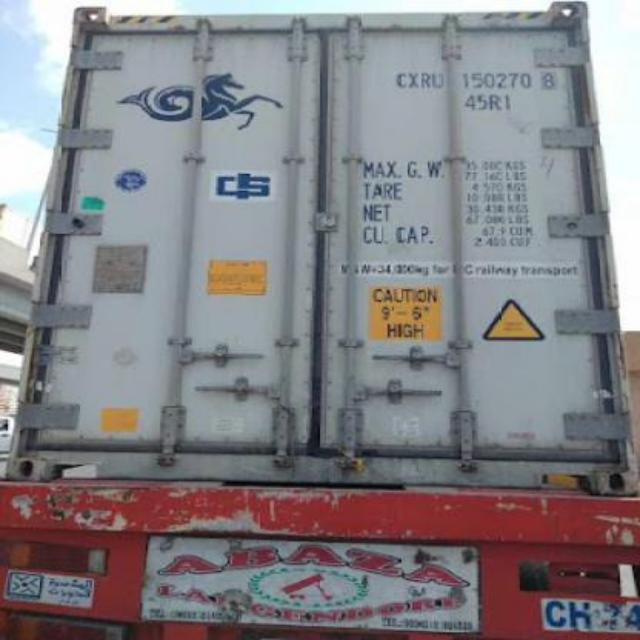0: (482, 72, 496, 90), (520, 70, 530, 90)
1: (462, 70, 472, 88)
2: (496, 72, 509, 88)
5: (472, 72, 482, 86)
7: (508, 70, 518, 88)
8: (542, 70, 554, 90)
C: (394, 72, 408, 88)
R: (418, 70, 436, 92)
U: (430, 70, 446, 90)
X: (410, 70, 418, 88)
